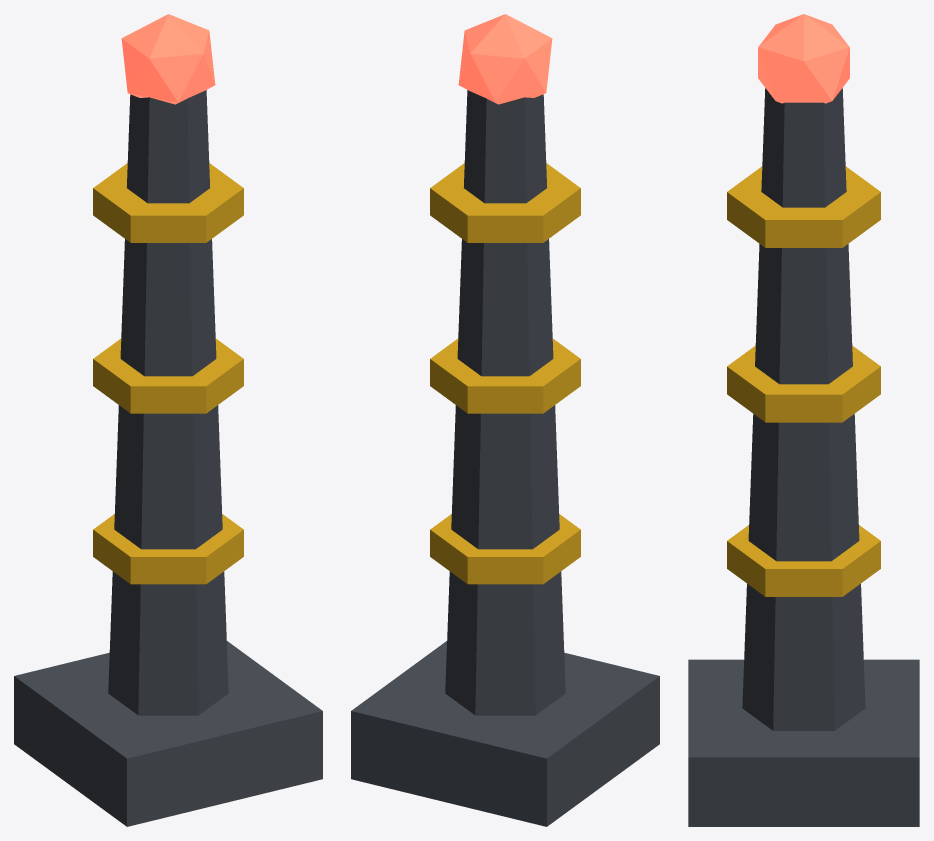
File: Pylon.fbx
3 renders of one model, left to right at view 1: azimuth 30°, elevation 25°; view 2: azimuth 150°, elevation 25°; view 3: azimuth 270°, elevation 25°, orthographic. The views are drawn at different scales.
Parts seen in each view (by area): view 1: Pylon; view 2: Pylon; view 3: Pylon.
Boxes of the visible parts, x1,y1,x2,y2 form: Pylon: (14,14,322,826); Pylon: (351,14,659,826); Pylon: (688,14,919,826).
Size of the model in its own units: 0.6 by 2.19 by 0.6.
